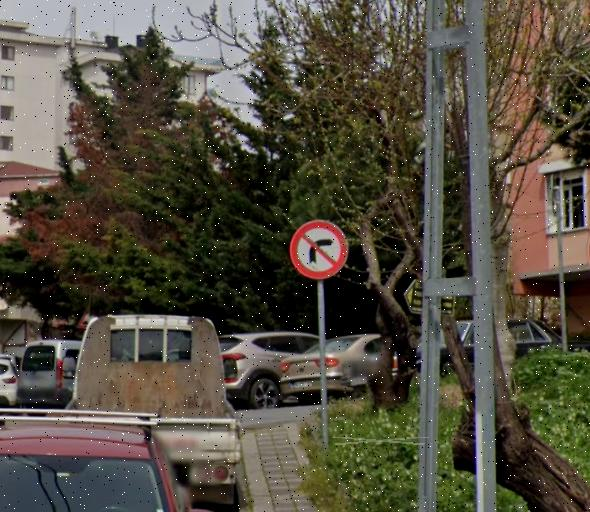rightturnsareforbidden: (293, 221, 345, 277)
